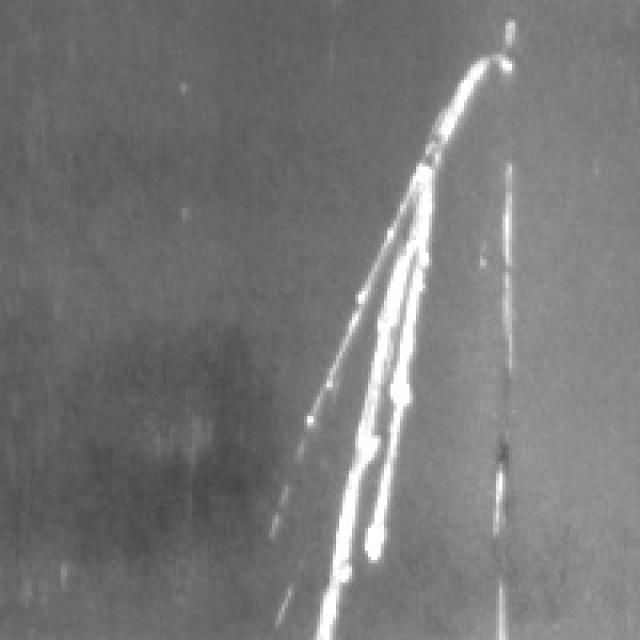scratches: (282, 52, 486, 630), (480, 144, 522, 435), (480, 445, 512, 637)
